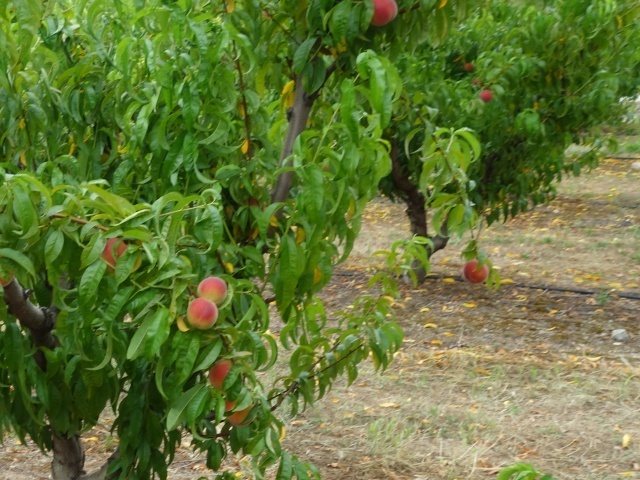peach: (100, 231, 147, 277), (181, 295, 222, 335), (194, 273, 233, 308), (223, 393, 259, 428), (460, 253, 495, 289), (206, 354, 239, 392), (363, 1, 401, 27), (475, 85, 496, 105)
